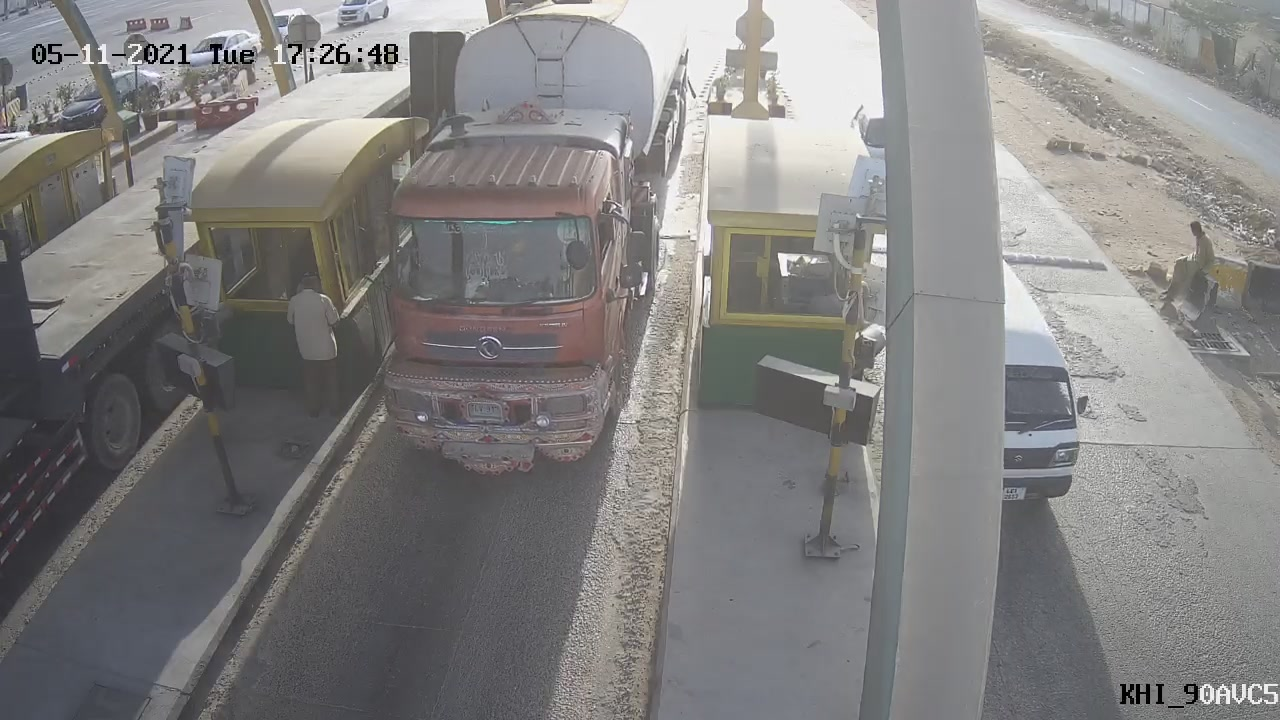F6: (339, 1, 705, 499)
